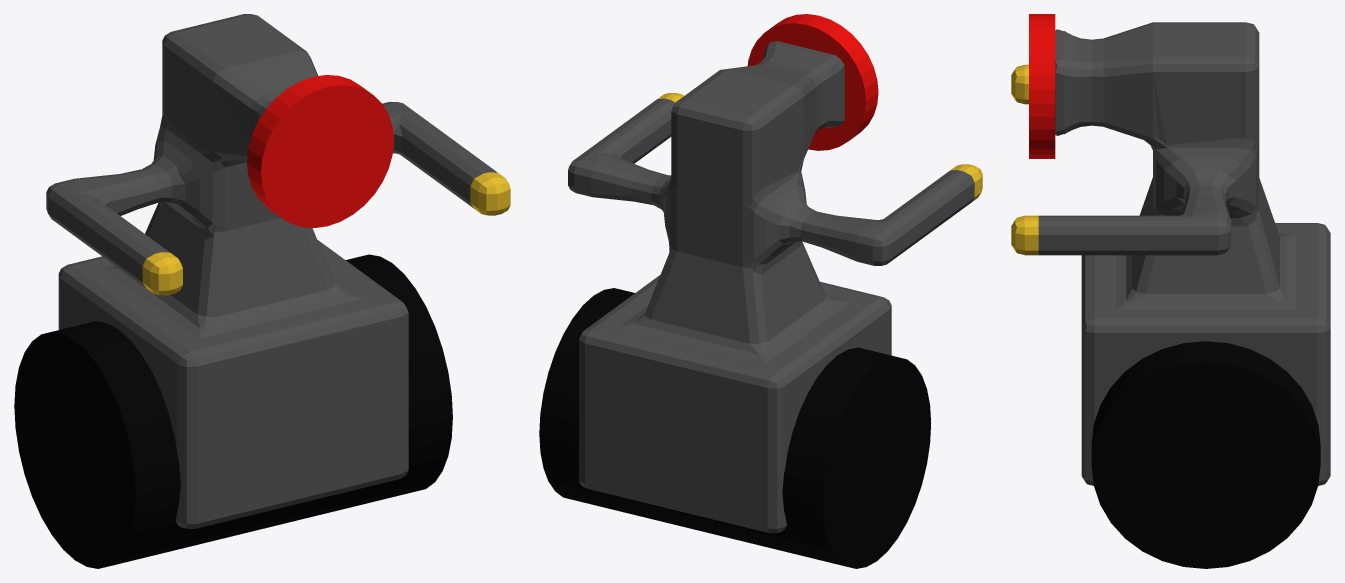
Rendered from robot.gltf.
3 views of the same model, side by side, from view 1: azimuth 30°, elevation 25°; view 2: azimuth 150°, elevation 25°; view 3: azimuth 270°, elevation 25° (orthographic). The views are drawn at different scales.
Parts seen in each view (by area): view 1: Cube, Cylinder, Cylinder.001; view 2: Cube, Cylinder, Cylinder.001; view 3: Cube, Cylinder, Cylinder.001.
Part boxes in pixels (box(x1,y1,x2,y2)): Cube: box(46, 14, 510, 528); Cylinder: box(14, 254, 452, 568); Cylinder.001: box(247, 75, 393, 227); Cube: box(568, 41, 982, 533); Cylinder: box(539, 288, 930, 568); Cylinder.001: box(747, 14, 878, 150); Cube: box(1011, 22, 1330, 485); Cylinder: box(1091, 341, 1320, 568); Cylinder.001: box(1029, 14, 1055, 158).
Size of the model in its own units: 1.25 by 1.67 by 1.02.
